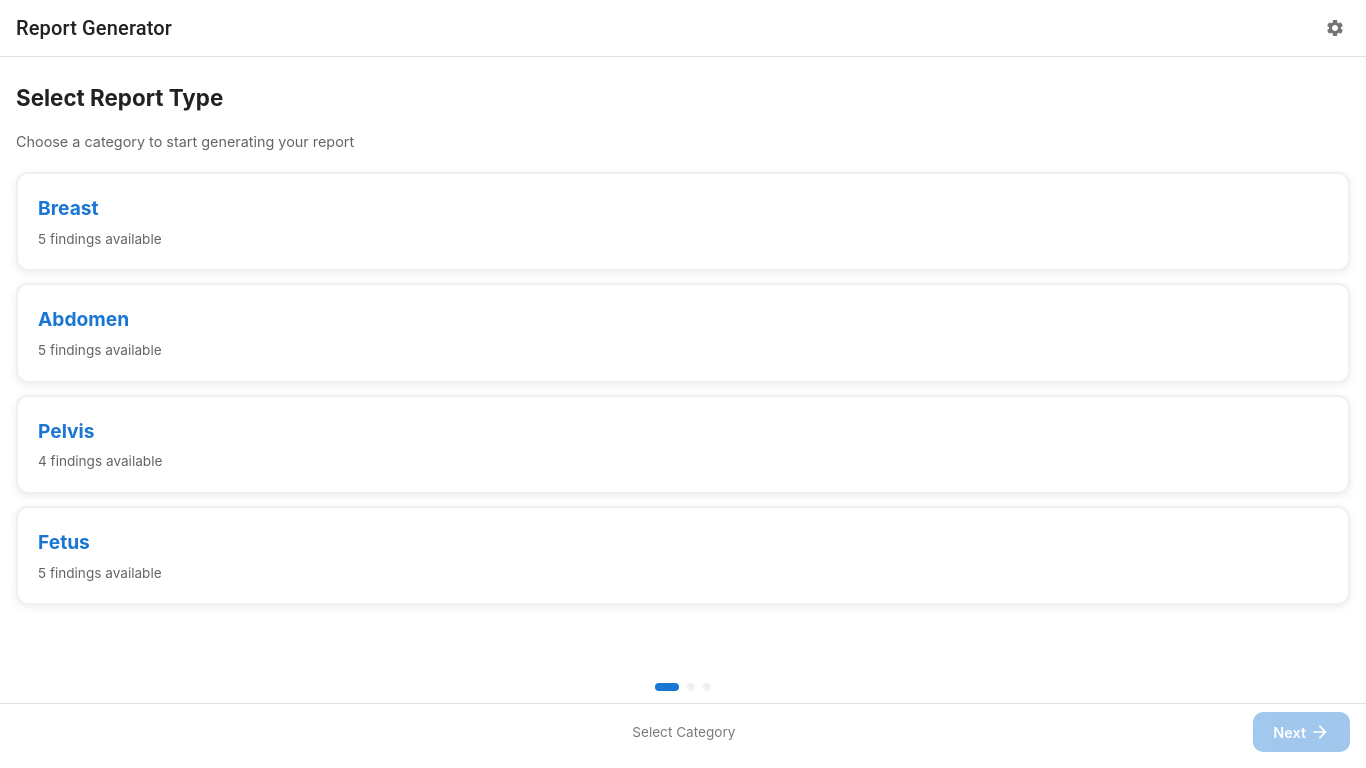
Test: MobileReportFlow › selecting a category advances to step 1 and seeds findings from REPORT_DATA
Click the heading "Breast".
click(68, 208)  # box x1=38 y1=196 x2=99 y2=220
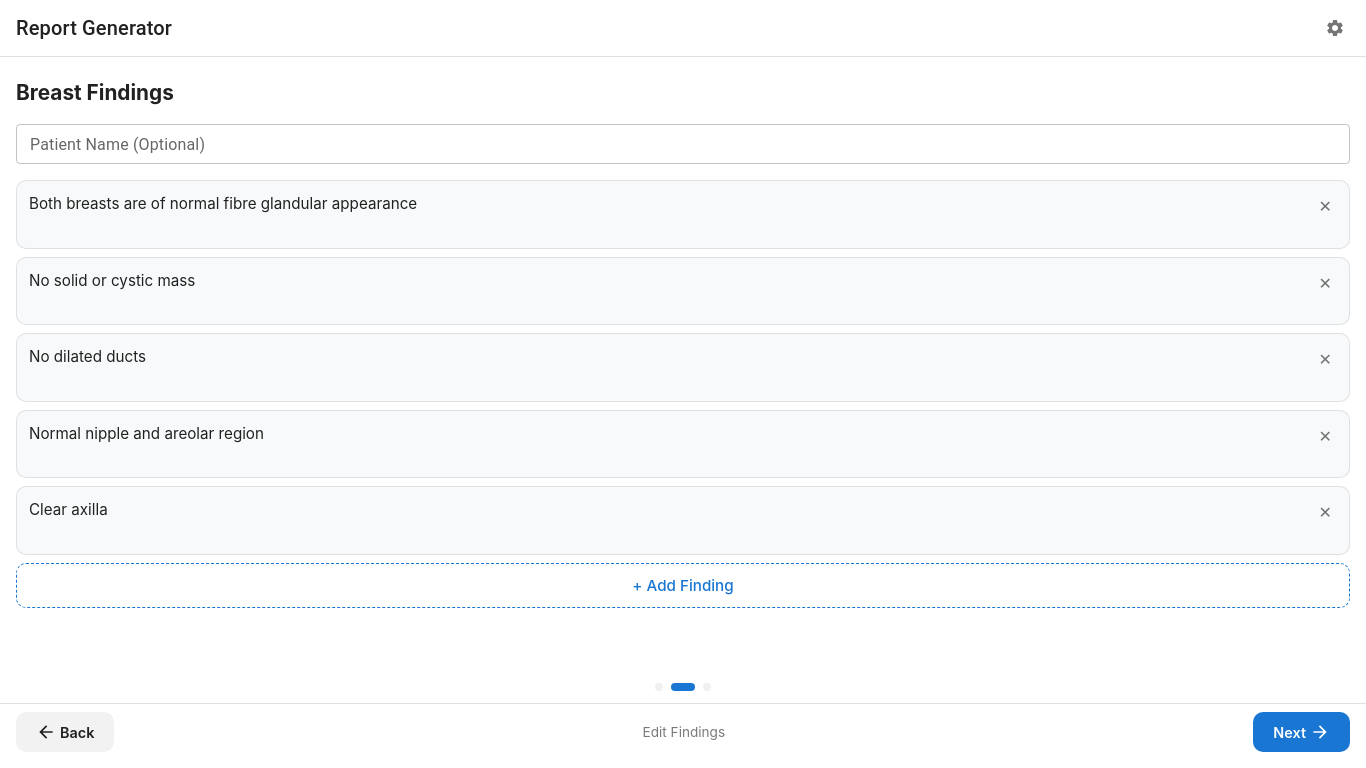
Check: the text "Edit Findings" is shown, box x1=642 y1=722 x2=725 y2=742
Check: the number of text boxes with placeholder "Enter finding..." is 5, box x1=29 y1=191 x2=1306 y2=238; x1=29 y1=268 x2=1306 y2=314; x1=29 y1=344 x2=1306 y2=391; x1=29 y1=421 x2=1306 y2=467; x1=29 y1=497 x2=1306 y2=544
Check: the 1st text box with placeholder "Enter finding..." holds "Both breasts are of normal fibre glandular appearance", box x1=29 y1=191 x2=1306 y2=238
